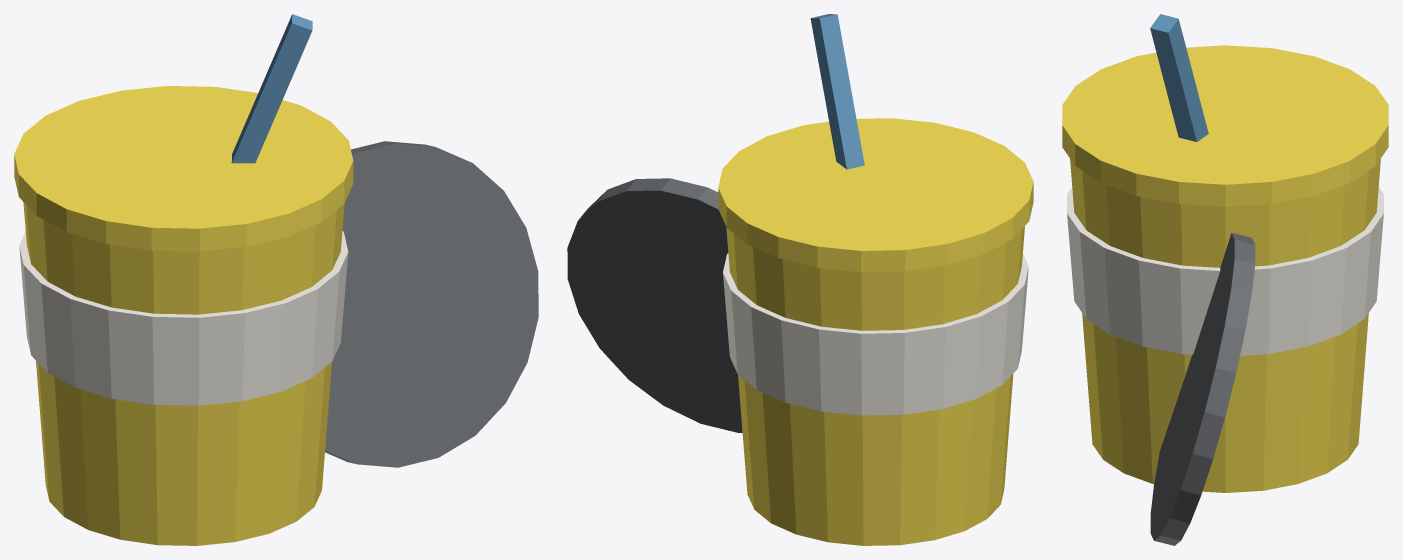
The model's file is car-repair-garage-and-mot-workshop-car-repair-garage-a-b5fc206b__34038.glb.
The picture shows the model from 3 angles, left to right: view 1: azimuth 30°, elevation 25°; view 2: azimuth 150°, elevation 25°; view 3: azimuth 270°, elevation 25°; orthographic projection. The views are drawn at different scales.
Parts seen in each view (by area): view 1: car-repair-garage-and-mot-workshop-spill-granule-tub; view 2: car-repair-garage-and-mot-workshop-spill-granule-tub; view 3: car-repair-garage-and-mot-workshop-spill-granule-tub.
Part boxes in pixels (x1,y1,x2,y2): car-repair-garage-and-mot-workshop-spill-granule-tub: (14, 14, 538, 545); car-repair-garage-and-mot-workshop-spill-granule-tub: (567, 14, 1033, 545); car-repair-garage-and-mot-workshop-spill-granule-tub: (1062, 14, 1388, 545).
Bounding box in the file's own units: 0.89 × 0.8263 × 0.5345.
